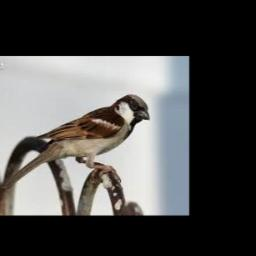Sparrow: (1, 95, 149, 191)
